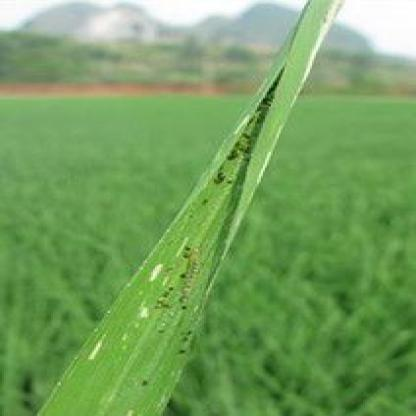leaf-folder: (159, 236, 236, 342)
